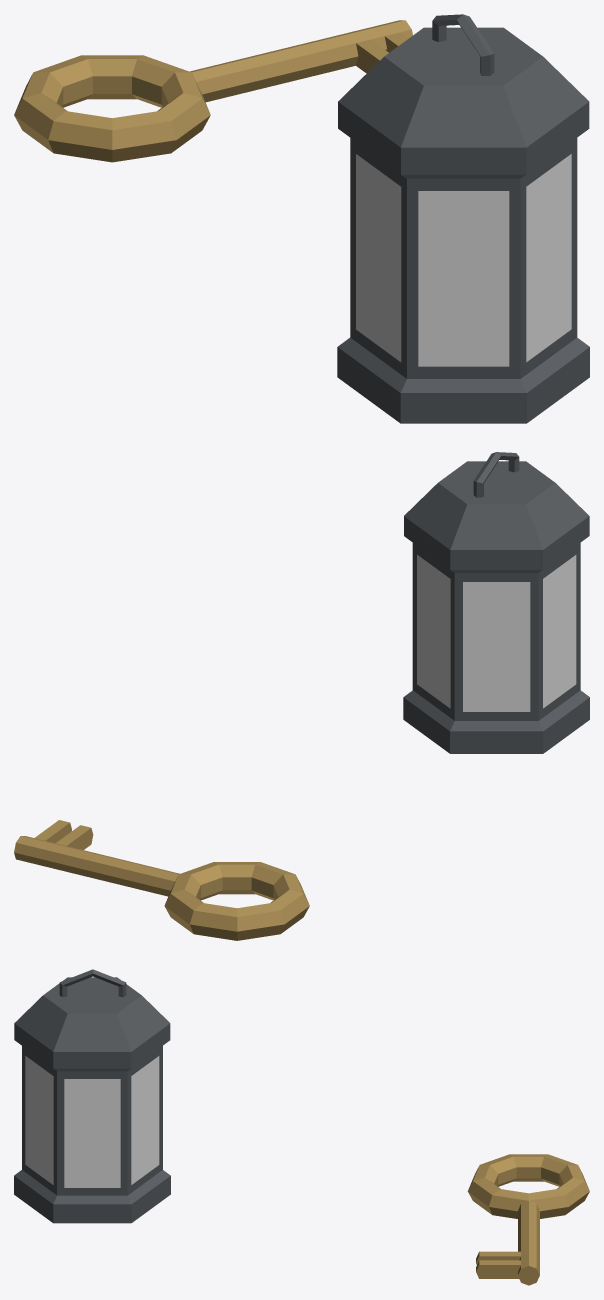
The model's file is Key.fbx.
3 renders of one model, top to bottom at view 1: azimuth 30°, elevation 25°; view 2: azimuth 150°, elevation 25°; view 3: azimuth 270°, elevation 25°, orthographic. The views are drawn at different scales.
Parts seen in each view (by area): view 1: Lantern, Key; view 2: Lantern, Key; view 3: Lantern, Key.
Boxes of the visible parts, bbox=[...] form: Lantern: bbox=[337, 14, 589, 423]; Key: bbox=[14, 20, 412, 162]; Lantern: bbox=[403, 452, 589, 753]; Key: bbox=[14, 820, 309, 940]; Lantern: bbox=[14, 969, 170, 1223]; Key: bbox=[467, 1154, 589, 1285].
Bounding box in the file's own units: 394 × 360 × 817.
